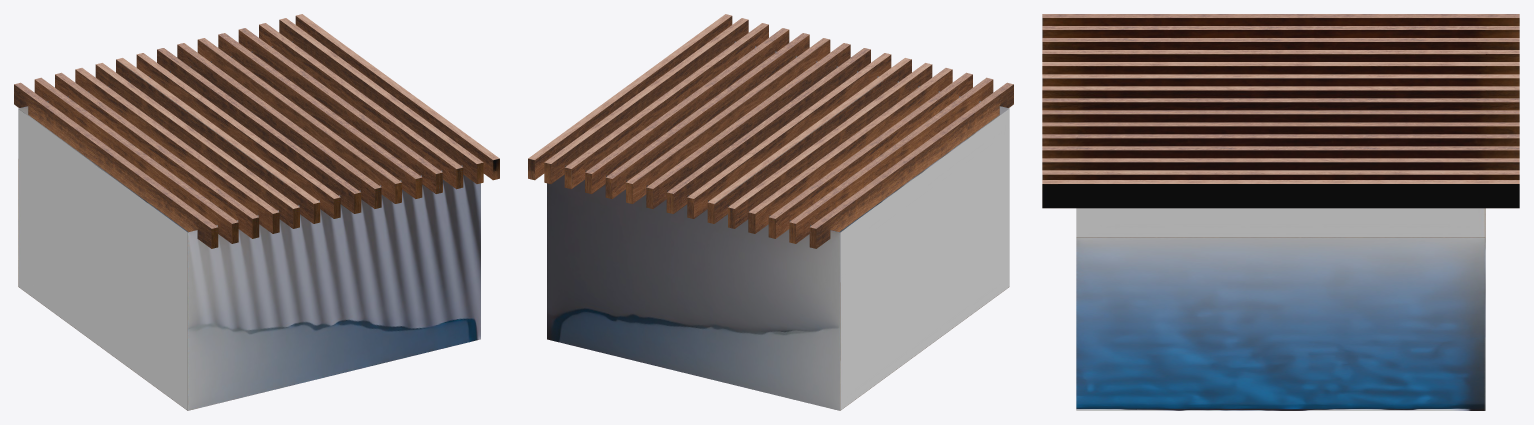
The model's file is allbox2.glb.
The picture shows the model from 3 angles, left to right: view 1: azimuth 30°, elevation 25°; view 2: azimuth 150°, elevation 25°; view 3: azimuth 270°, elevation 25°; orthographic projection. The views are drawn at different scales.
Parts seen in each view (by area): view 1: box.002; view 2: box.002; view 3: box.002.
Boxes of the visible parts, bbox=[...] form: box.002: bbox=[14, 14, 499, 410]; box.002: bbox=[528, 14, 1013, 410]; box.002: bbox=[1042, 14, 1519, 410].
Bounding box in the file's own units: 2.03 × 1.24 × 2.33.
1 material, 1 textured.
